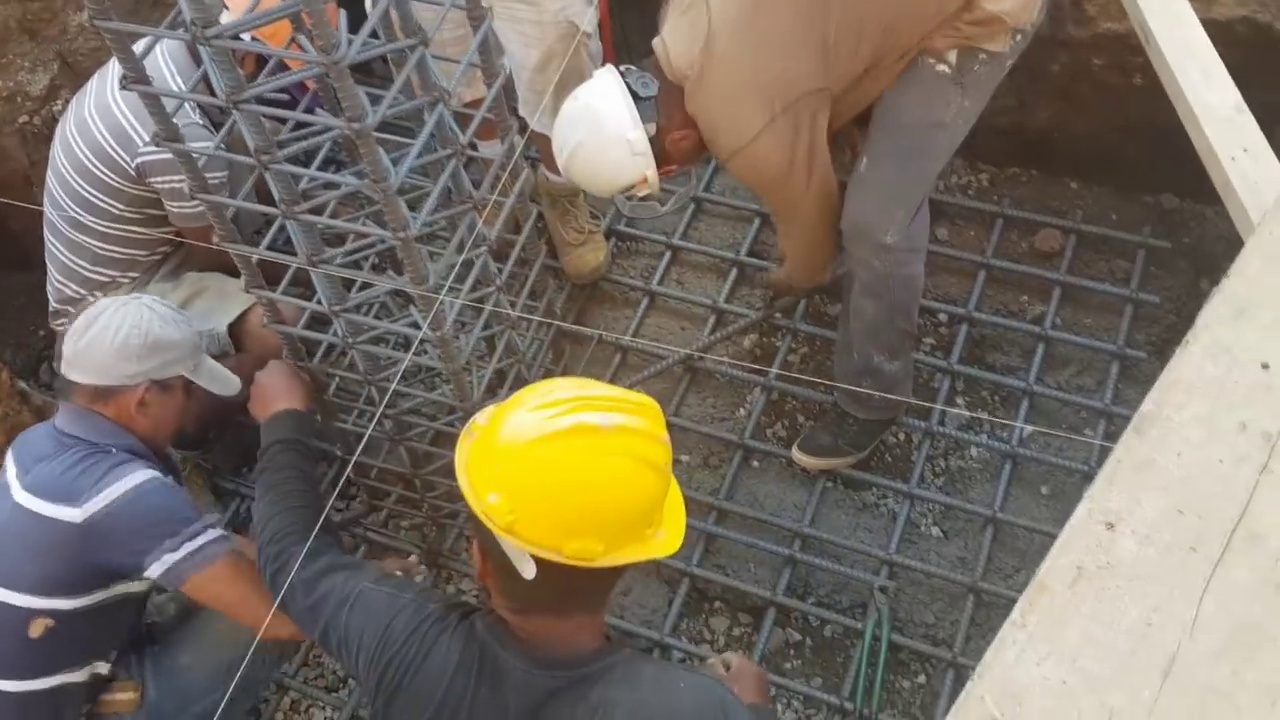helmet: (449, 377, 690, 576), (555, 54, 655, 212), (223, 0, 340, 88)
helmet-off: (56, 290, 242, 471)
helmet-on: (447, 371, 688, 664), (557, 33, 712, 214), (179, 3, 340, 136)
person: (555, 0, 1047, 474), (248, 353, 776, 719), (0, 259, 308, 720), (38, 0, 343, 355), (416, 13, 608, 284)
